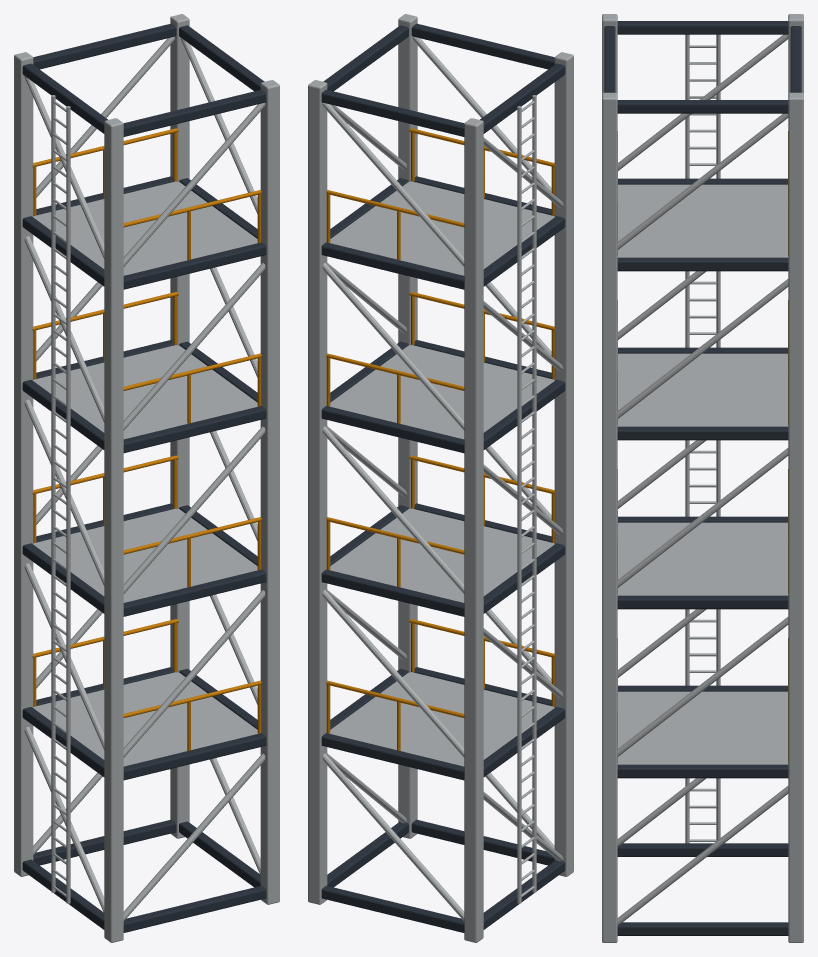
Rendered from service_tower.glb.
3 views of the same model, side by side, from view 1: azimuth 30°, elevation 25°; view 2: azimuth 150°, elevation 25°; view 3: azimuth 270°, elevation 25° (orthographic). The views are drawn at different scales.
Parts seen in each view (by area): view 1: Tower_Column, Tower_Column.002, Tower_Column.001, Service_Platform.002, Service_Platform.003, Service_Platform, Service_Platform.001, Tower_Column.003, Ladder_Rail, Ladder_Rail.001, Tower_Crossbeam.014, Tower_Crossbeam.018 (+47 smaller); view 2: Tower_Column.001, Tower_Column.003, Tower_Column, Service_Platform.003, Service_Platform.002, Service_Platform, Service_Platform.001, Tower_Column.002, Ladder_Rail.001, Ladder_Rail, Tower_Crossbeam.015, Tower_Crossbeam.019 (+43 smaller); view 3: Tower_Column.002, Tower_Column.003, Service_Platform, Service_Platform.001, Service_Platform.003, Service_Platform.002, Tower_Crossbeam.005, Tower_Crossbeam.009, Tower_Crossbeam.013, Tower_Crossbeam.017, Tower_Crossbeam.020, Tower_Crossbeam.021 (+22 smaller).
Part boxes in pixels (x1,y1,x2,y2): Tower_Column: (104, 118, 123, 942); Tower_Column.002: (260, 80, 279, 904); Tower_Column.001: (14, 52, 33, 876); Service_Platform.002: (33, 345, 257, 439); Service_Platform.003: (33, 181, 257, 275); Service_Platform: (33, 672, 257, 766); Service_Platform.001: (33, 508, 257, 602); Tower_Column.003: (170, 14, 189, 838); Ladder_Rail: (66, 106, 70, 903); Ladder_Rail.001: (51, 95, 55, 892); Tower_Crossbeam.014: (123, 406, 266, 453); Tower_Crossbeam.018: (123, 242, 266, 289); Tower_Column.001: (464, 118, 483, 942); Tower_Column.003: (308, 80, 327, 904); Tower_Column: (554, 52, 573, 876); Service_Platform.003: (330, 181, 554, 275); Service_Platform.002: (330, 345, 554, 439); Service_Platform: (330, 672, 554, 766); Service_Platform.001: (330, 508, 554, 602); Tower_Column.002: (398, 14, 417, 838); Ladder_Rail.001: (517, 106, 521, 903); Ladder_Rail: (532, 95, 536, 892); Tower_Crossbeam.015: (321, 406, 464, 453); Tower_Crossbeam.019: (321, 242, 464, 289); Tower_Column.002: (602, 92, 617, 942); Tower_Column.003: (788, 92, 803, 942); Service_Platform: (617, 691, 788, 764); Service_Platform.001: (617, 522, 788, 595); Service_Platform.003: (617, 184, 788, 257); Service_Platform.002: (617, 353, 788, 426); Tower_Crossbeam.005: (617, 764, 788, 778); Tower_Crossbeam.009: (617, 595, 788, 609); Tower_Crossbeam.013: (617, 426, 788, 440); Tower_Crossbeam.017: (617, 257, 788, 271); Tower_Crossbeam.020: (617, 21, 788, 34); Tower_Crossbeam.021: (617, 100, 788, 113).
Bounding box in the file's own units: 3.31 × 15 × 3.25.
Materials: 3 (1 with a texture image).
